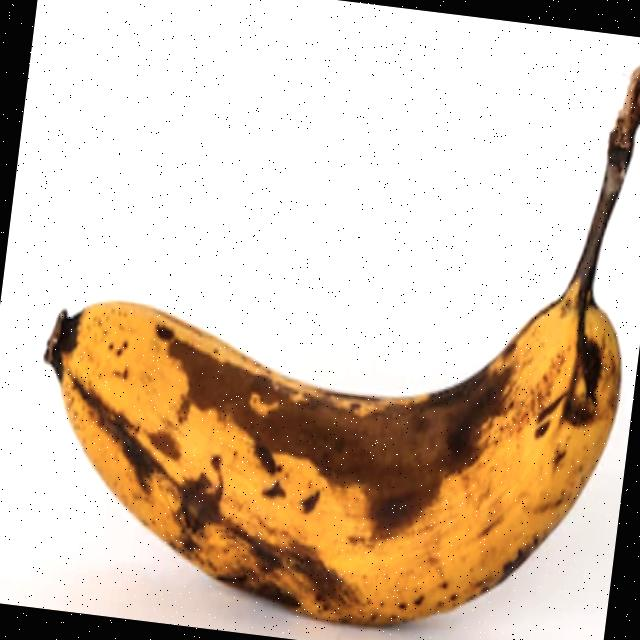rotten banana: (14, 25, 640, 640)
